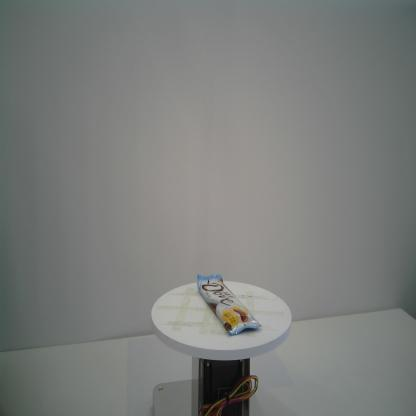Chocolate: (197, 273, 262, 336)
